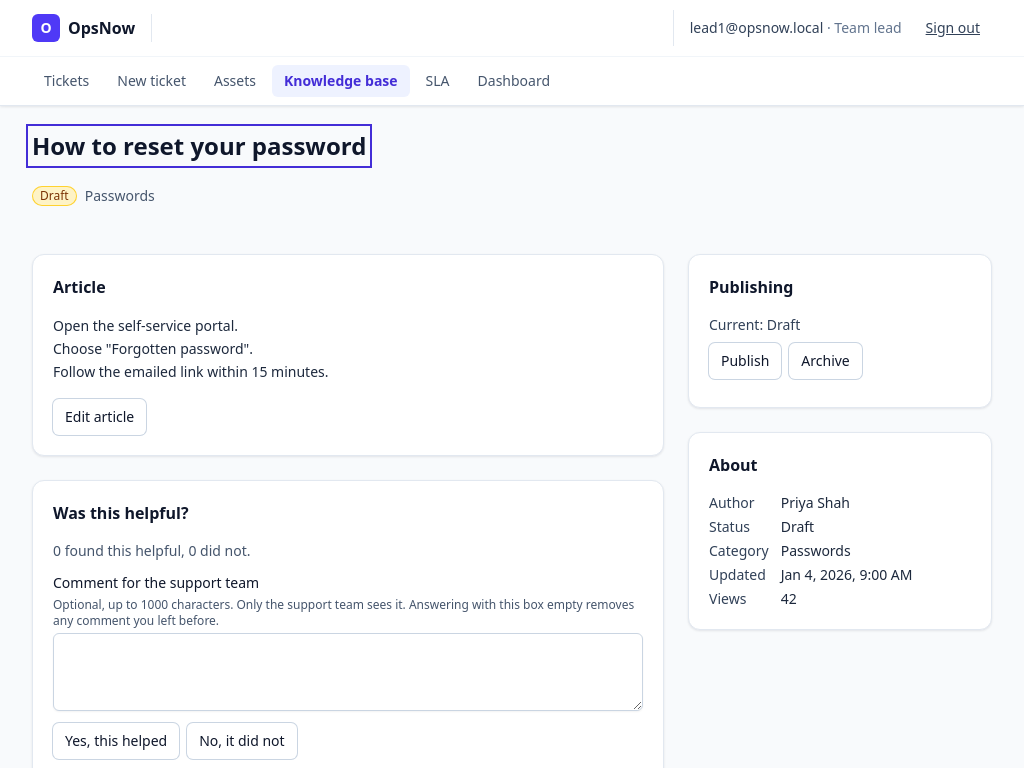
Scenario: article detail — TeamLead publishing › publishes a draft, sending only the status key
Check: the heading "How to reset your password" is shown, box [32,130,366,162]
Step 1. Click the button "Publish" → (745, 361), box [709,343,781,379]
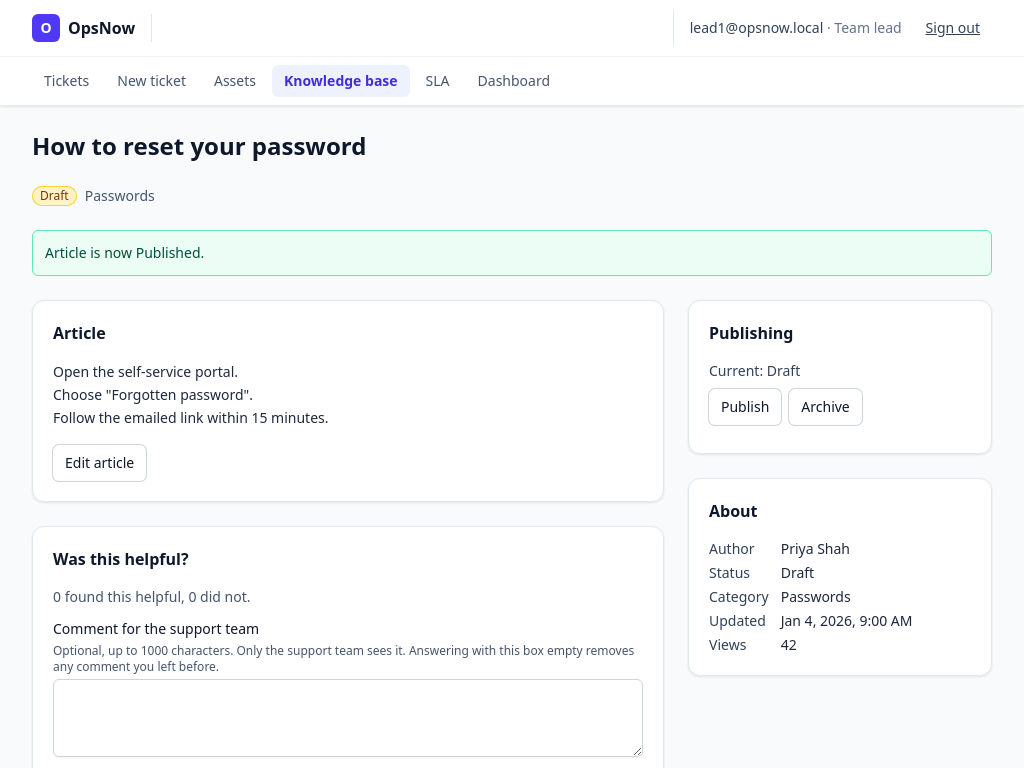
Check: the text "Article is now Published." is shown, box [32,230,992,276]
